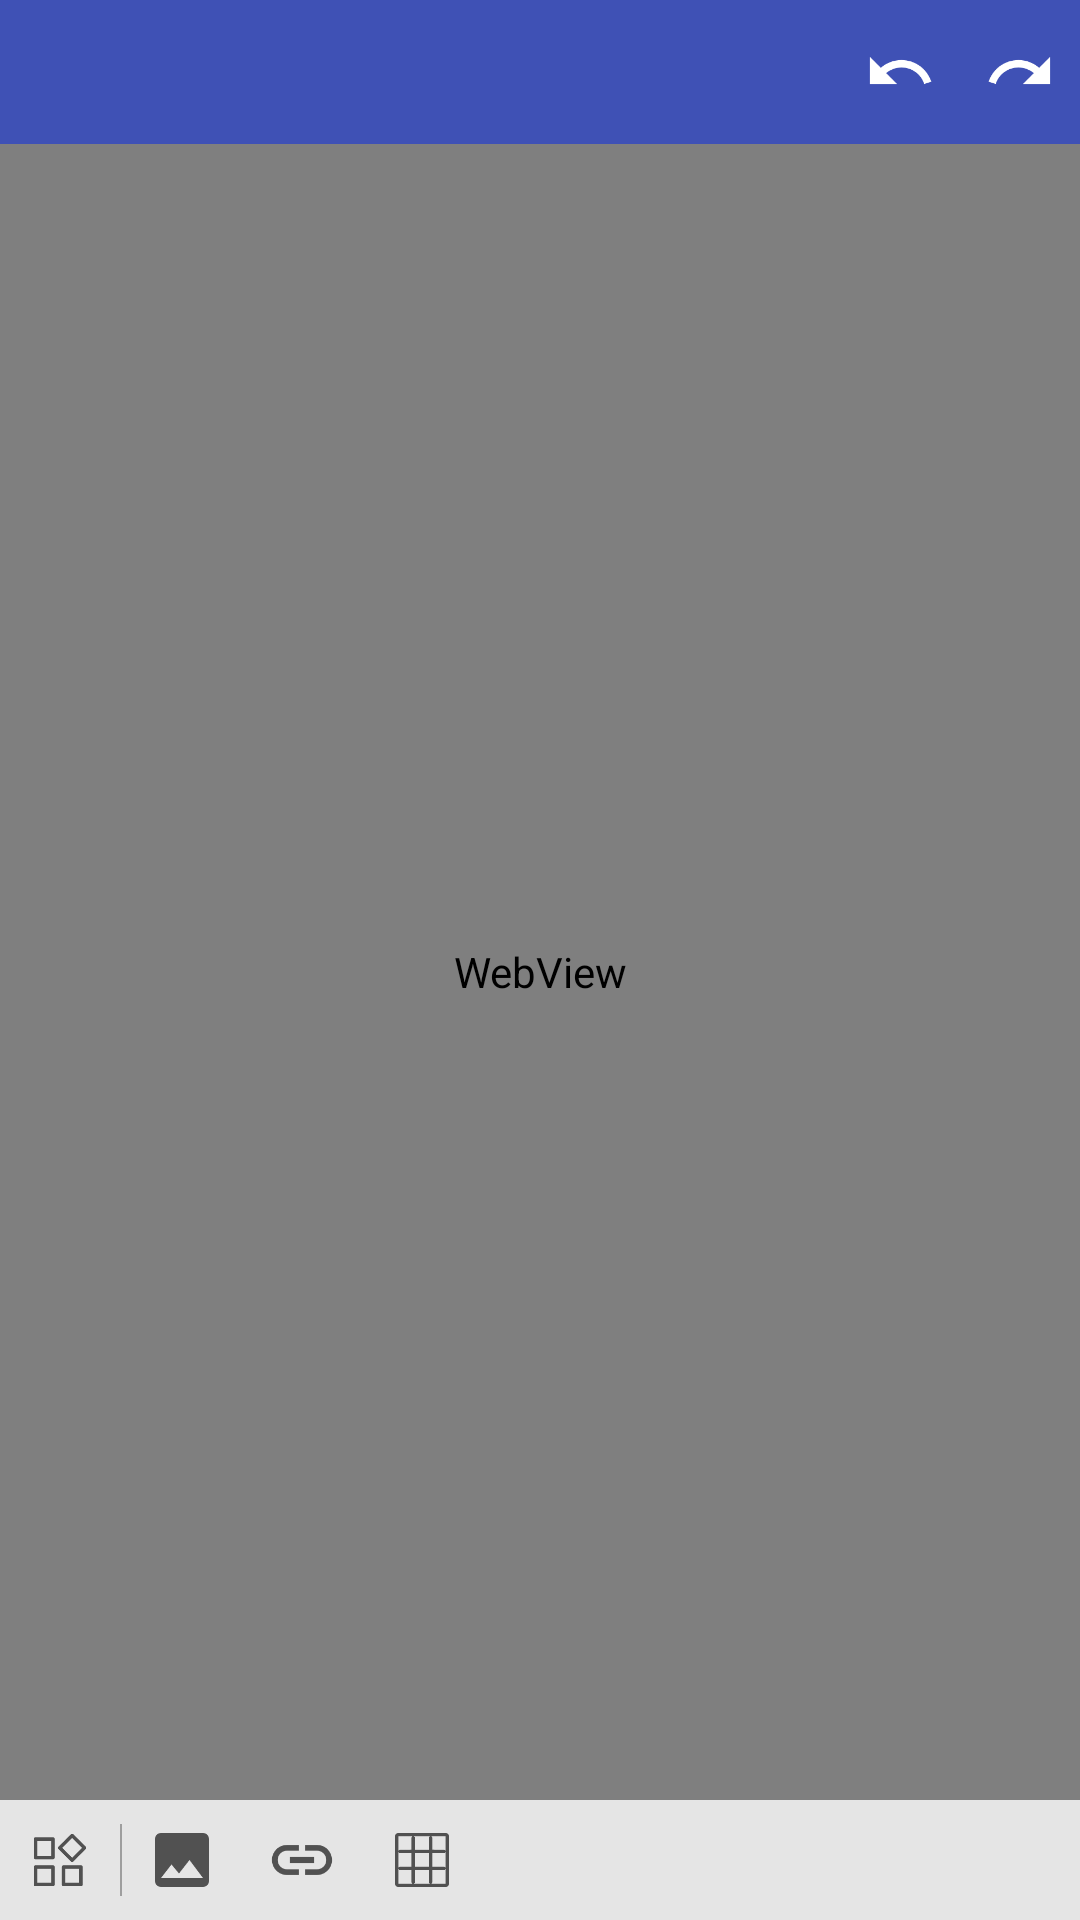

Point at icon controls on the screen. Image size 1080*1920, points as (x,y).
action: (60,1860)
insert link: (302,1860)
insert photo: (182,1860)
redo: (1019,70)
table: (422,1860)
undo: (901,70)
